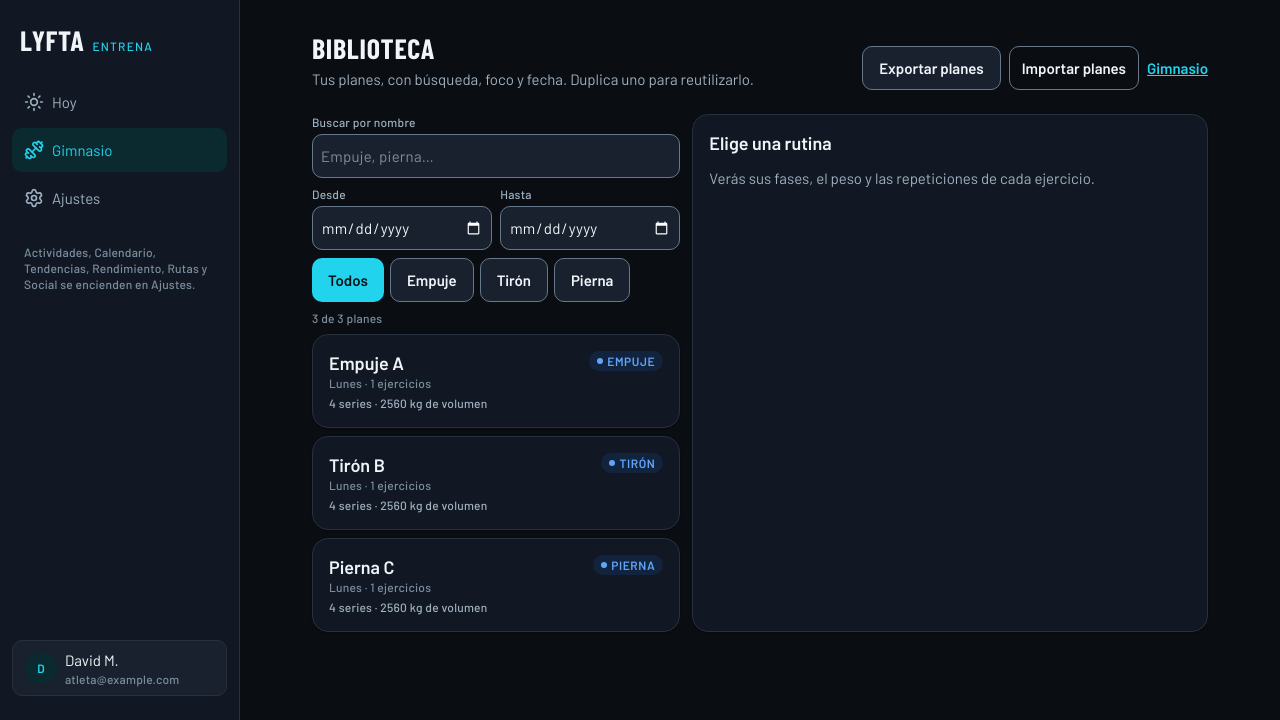
biblioteca de entrenamientos › busca por nombre, filtra por foco y por fecha
The width and height of the screenshot is (1280, 720).
expect the heading "Biblioteca" is shown: met, box x1=312 y1=31 x2=435 y2=65
expect the heading "Empuje A" is shown: met, box x1=329 y1=352 x2=404 y2=374
Type "tirón" into the search field labelled "Buscar por nombre" at (496, 156), box x1=312 y1=134 x2=680 y2=178
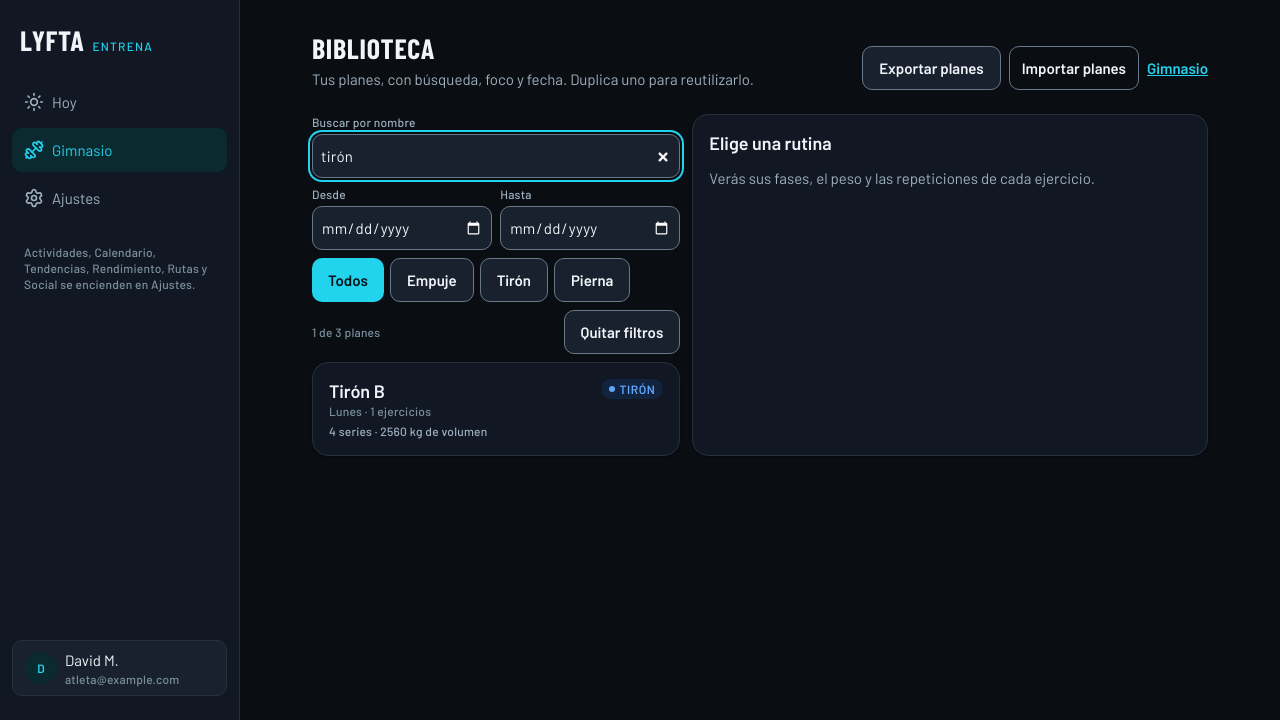
expect the heading "Tirón B" is shown: met, box x1=329 y1=380 x2=385 y2=402
expect the button "Empuje A" is gone: met
Clear the search field labelled "Buscar por nombre" at (496, 156), box x1=312 y1=134 x2=680 y2=178
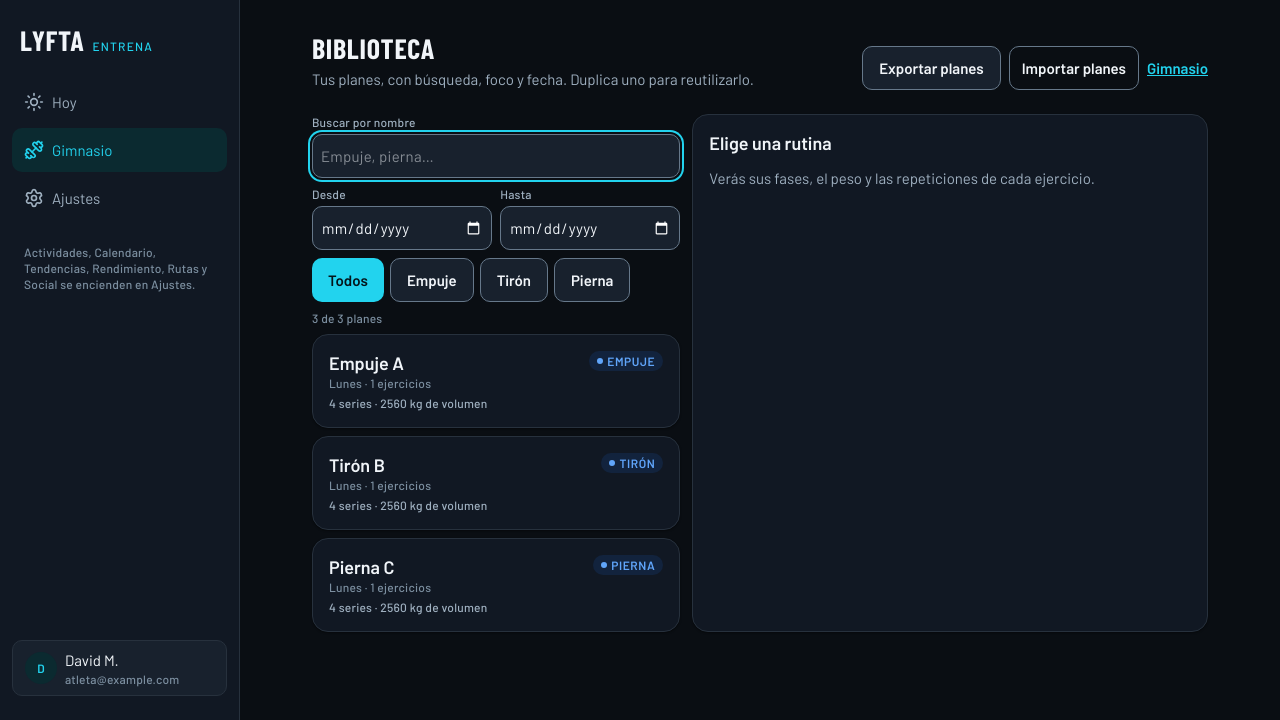
Click the button "Pierna" at (592, 280), box x1=554 y1=258 x2=630 y2=302
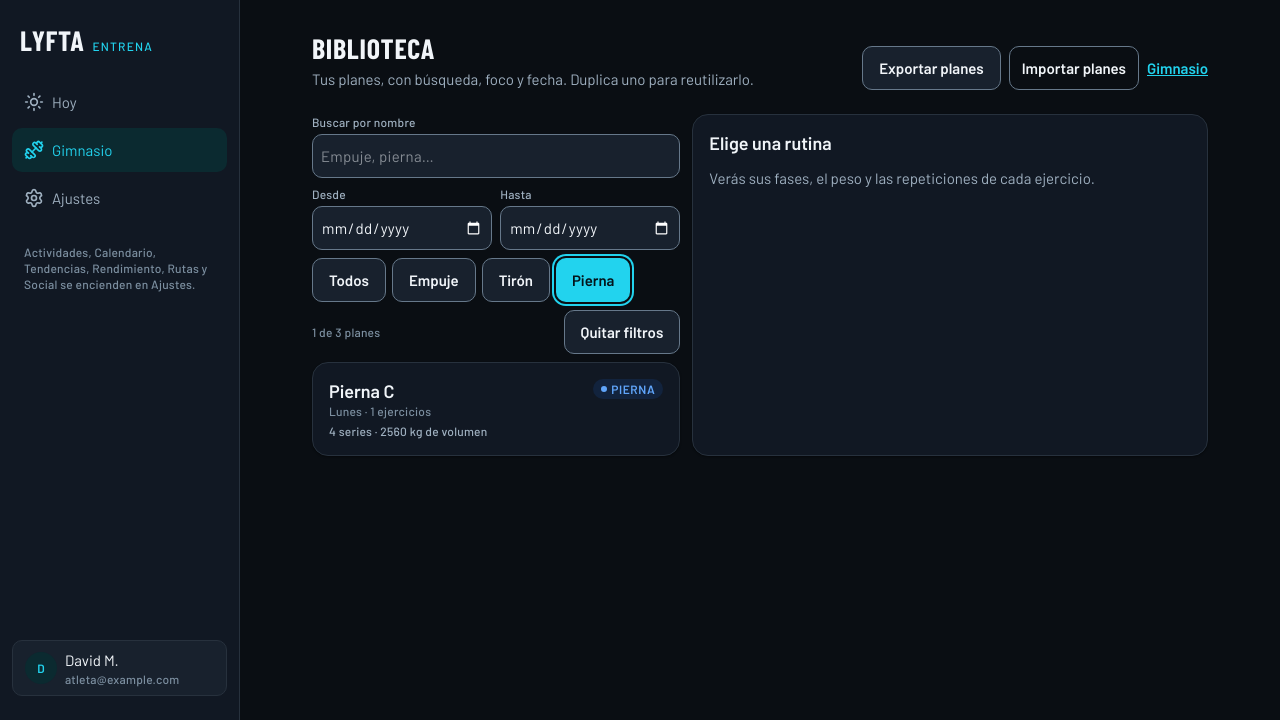
expect the heading "Pierna C" is shown: met, box x1=329 y1=380 x2=394 y2=402
expect the button "Tirón B" is gone: met
# La fecha se manda al servidor (no se filtra en el cliente).
Type "2026-11-01" into the date field labelled "Desde" at (402, 228), box x1=312 y1=206 x2=492 y2=250
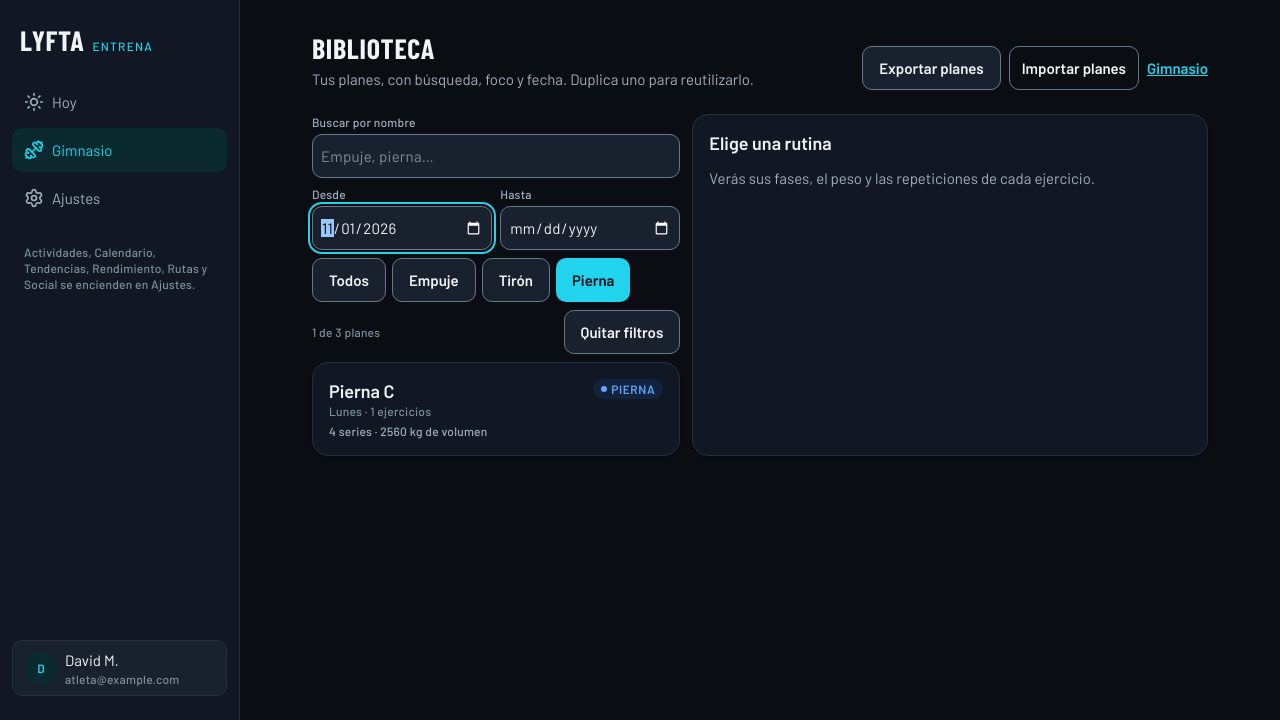
Click the button "Quitar filtros" at (622, 332), box x1=564 y1=310 x2=680 y2=354
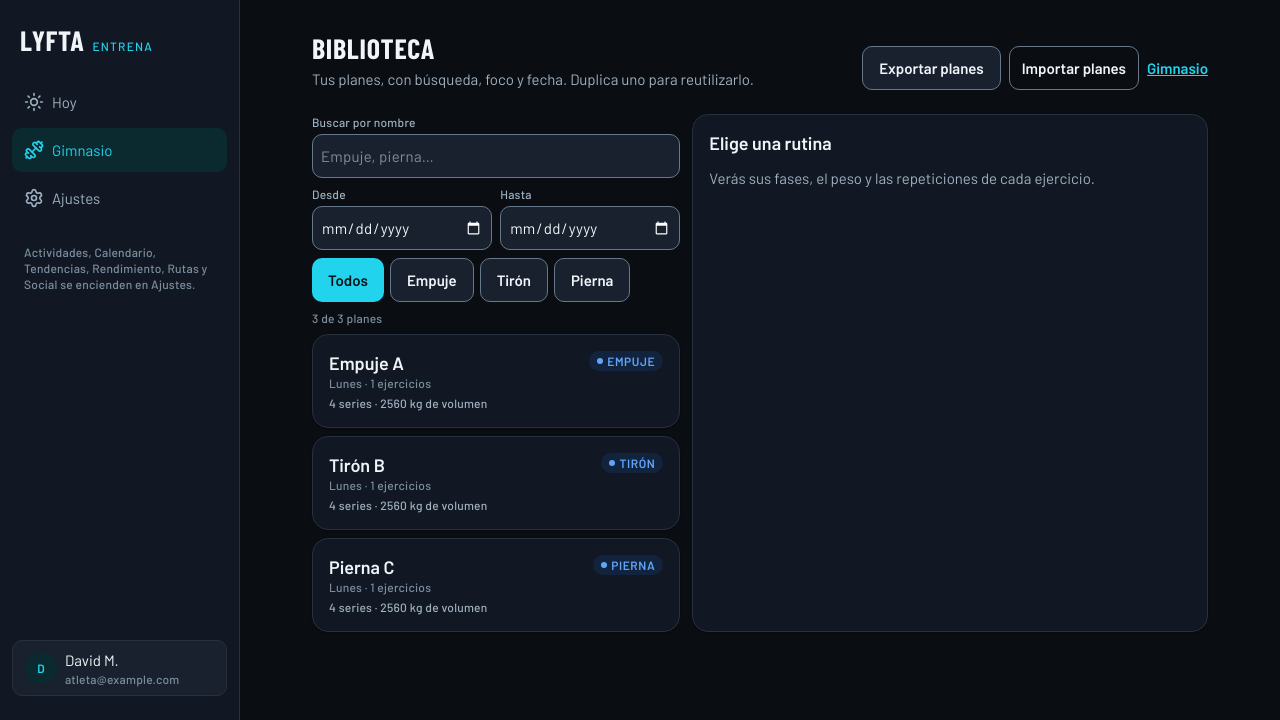
expect the heading "Empuje A" is shown: met, box x1=329 y1=352 x2=404 y2=374
expect the heading "Tirón B" is shown: met, box x1=329 y1=454 x2=385 y2=476
